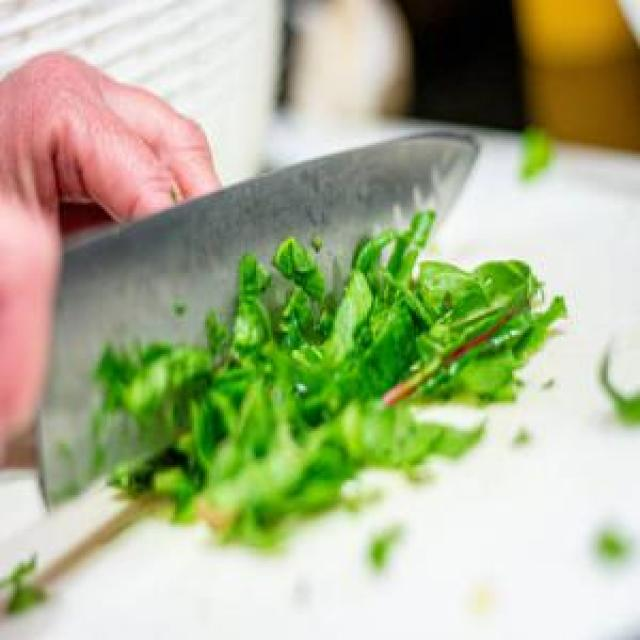knife: (0, 126, 482, 511)
